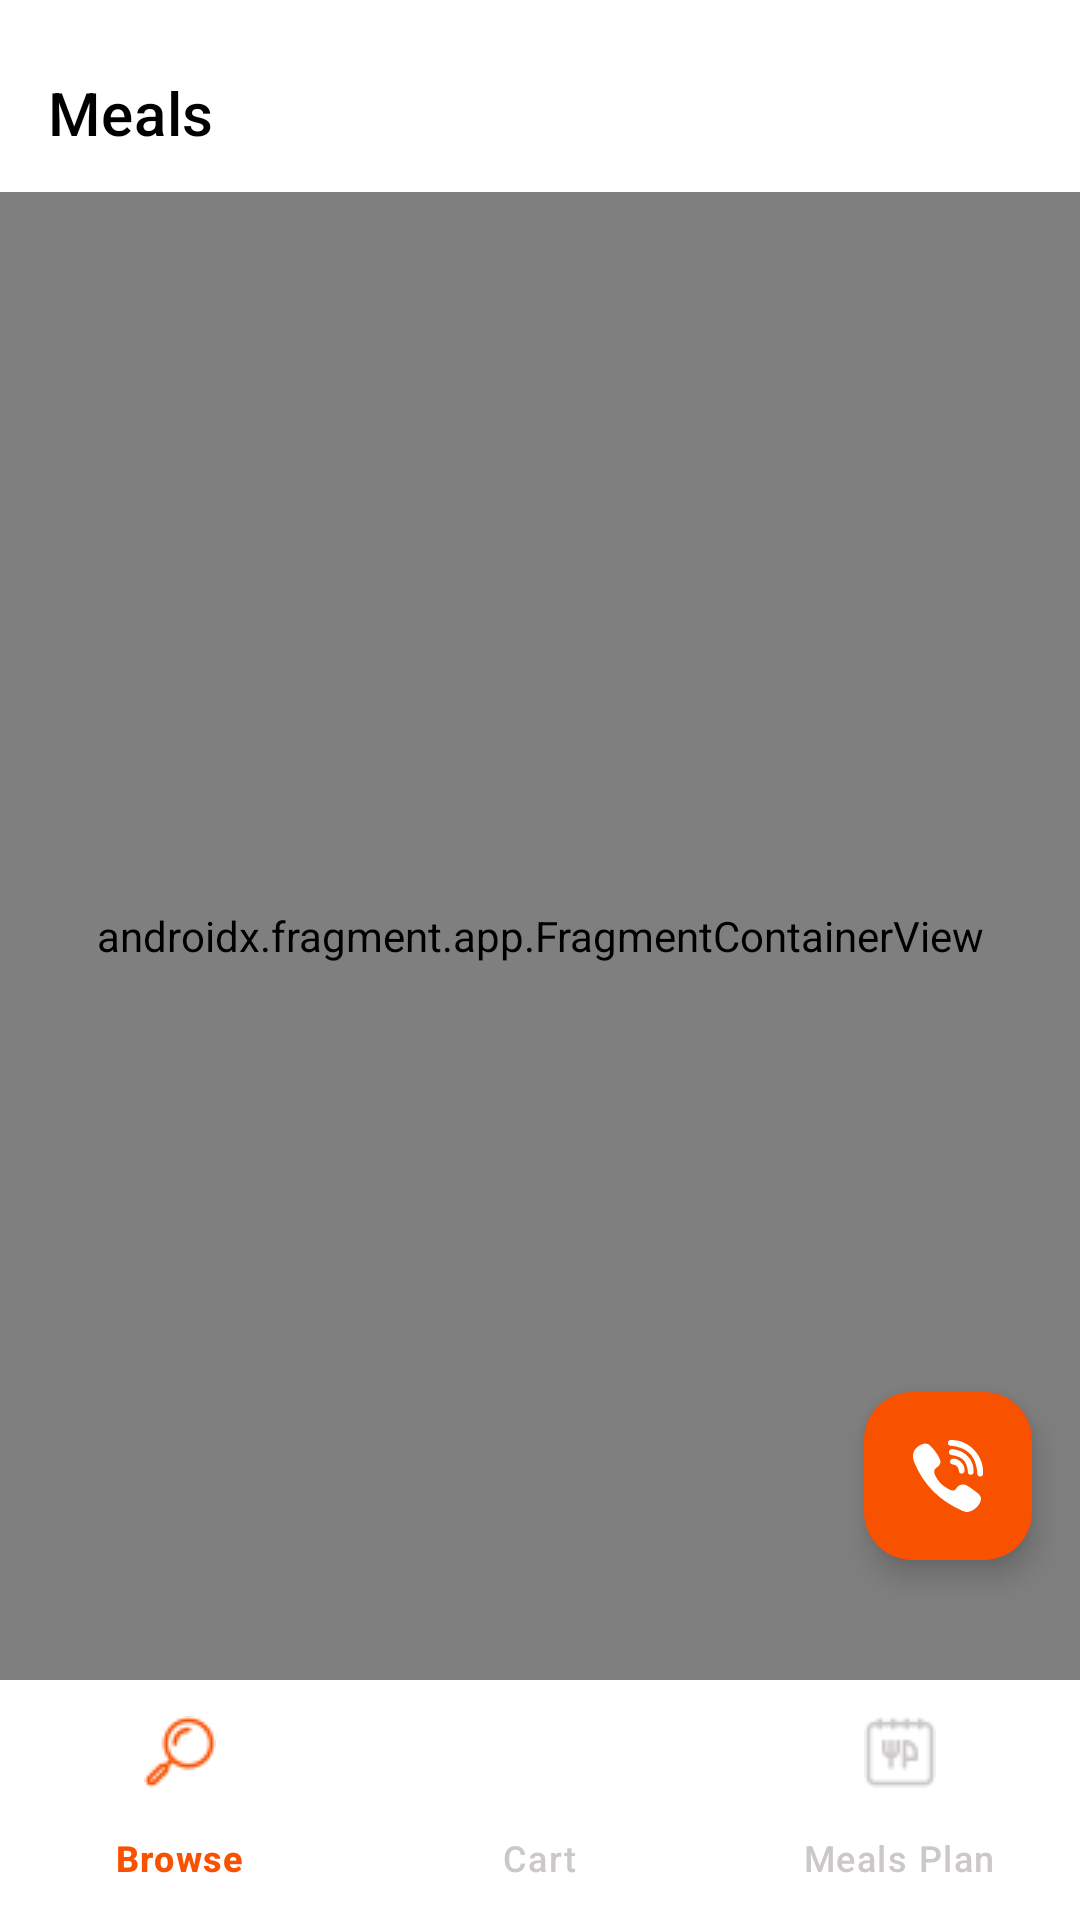

Screen size 1080px x 1920px. Icon name, then its box in pixels as (x1, y1, x2, y2):
call: (864, 1392, 1032, 1560)
